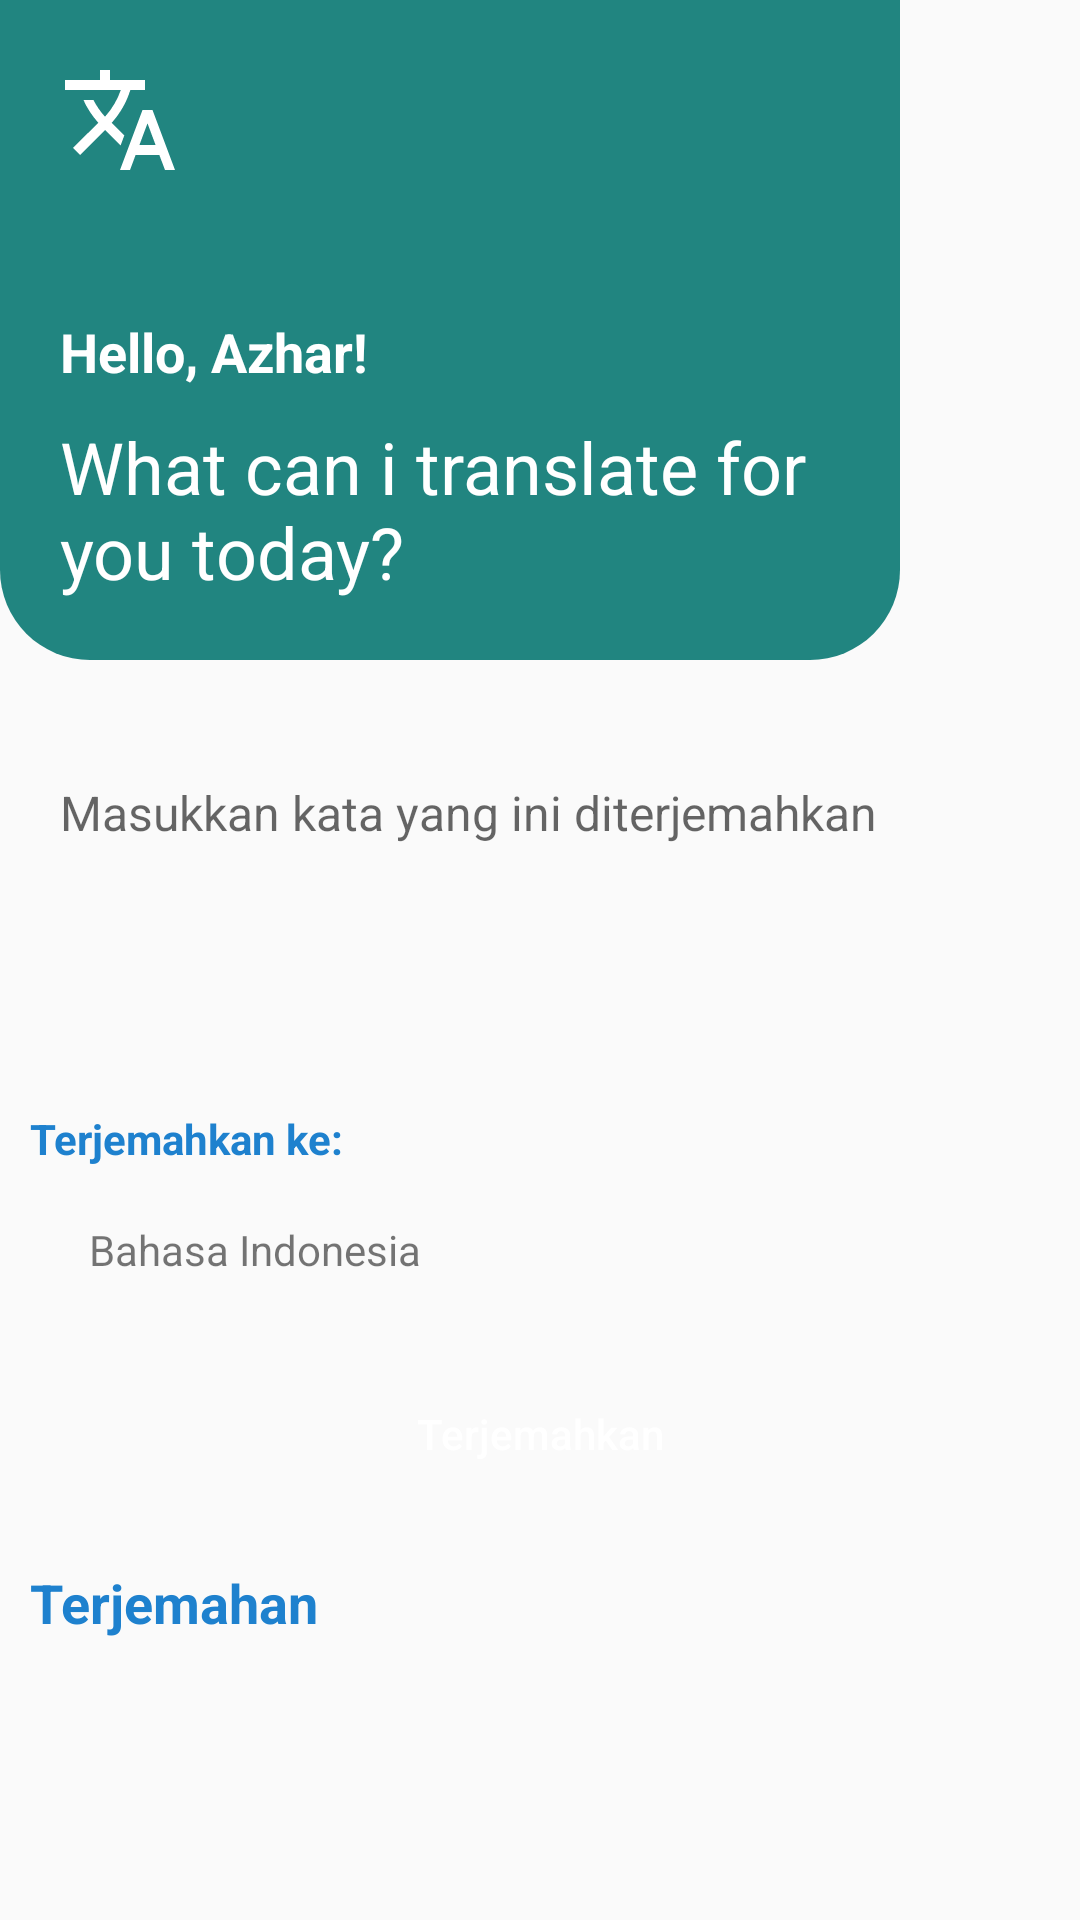

Locate icon controls on the screen. Image size 1080w x 1920h, boxes as (left=x1, top=y1, right=x2, bottom=y2).
translate: (left=65, top=70, right=175, bottom=170)
